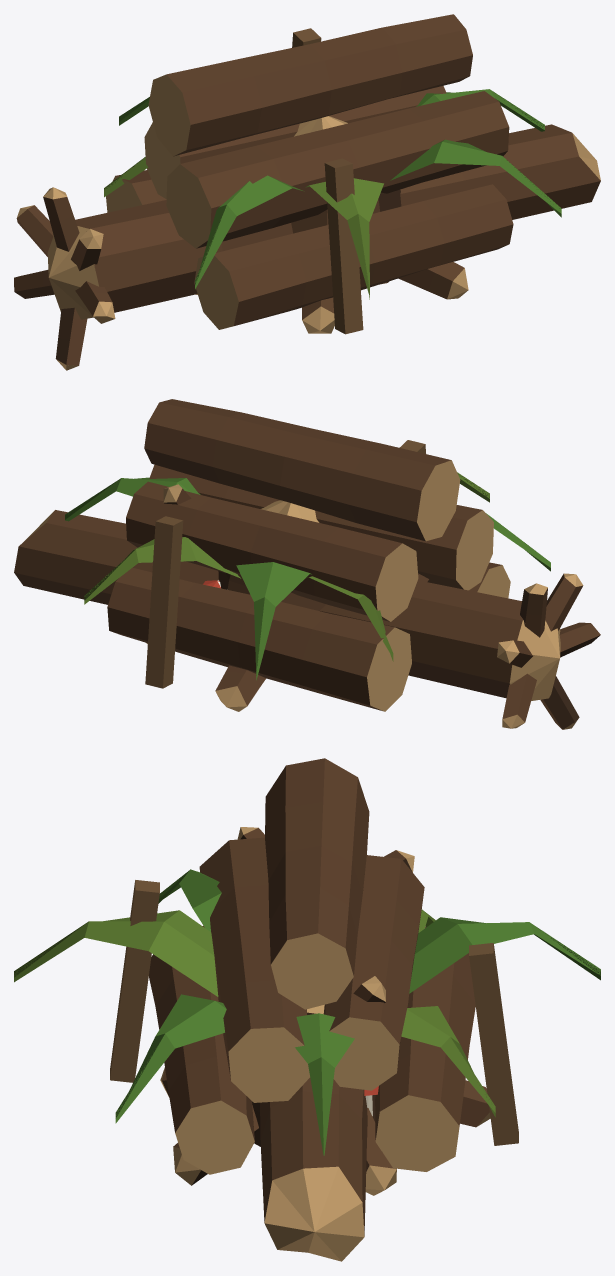
The model's file is woods.glb.
The picture shows the model from 3 angles, top to bottom: view 1: azimuth 30°, elevation 25°; view 2: azimuth 150°, elevation 25°; view 3: azimuth 270°, elevation 25°; orthographic projection. The views are drawn at different scales.
Parts seen in each view (by area): view 1: woods_variant_3, woods_variant_0, woods_variant_2, woods_variant_1; view 2: woods_variant_3, woods_variant_0, woods_variant_2, woods_variant_1; view 3: woods_variant_3, woods_variant_2, woods_variant_0, woods_variant_1.
Boxes of the visible parts, box(x1,y1,x2,y2) form: woods_variant_3: box(106, 14, 513, 334); woods_variant_0: box(14, 124, 600, 370); woods_variant_2: box(104, 89, 561, 299); woods_variant_1: box(196, 116, 468, 333); woods_variant_3: box(107, 399, 510, 711); woods_variant_0: box(14, 484, 600, 729); woods_variant_2: box(65, 472, 550, 680); woods_variant_1: box(146, 500, 325, 711); woods_variant_3: box(110, 758, 518, 1174); woods_variant_2: box(14, 869, 600, 1155); woods_variant_0: box(237, 827, 414, 1261); woods_variant_1: box(160, 1004, 490, 1195).
Bounding box in the file's own units: 0.1232 × 0.0539 × 0.0945.
